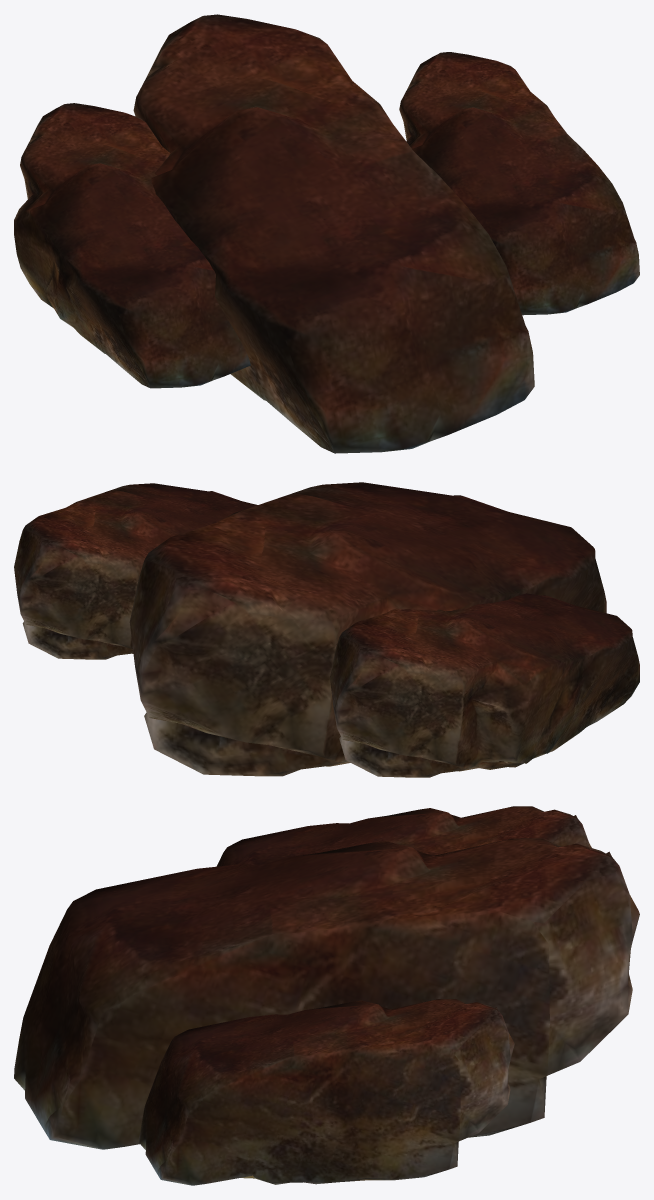
File: rock_cluster.glb
3 views of the same model, one above another, from view 1: azimuth 30°, elevation 25°; view 2: azimuth 150°, elevation 25°; view 3: azimuth 270°, elevation 25° (orthographic). The views are drawn at different scales.
Visible parts, largest first — view 1: rock_07, rock_cluster; view 2: rock_07, rock_cluster; view 3: rock_07, rock_cluster.
Part boxes in pixels (x1,y1,x2,y2): rock_07: (133,14,534,453); rock_cluster: (14,52,639,388); rock_07: (129,482,606,776); rock_cluster: (14,483,639,777); rock_07: (14,838,639,1149); rock_cluster: (139,806,591,1185).
Size of the model in its own units: 1.98 by 0.8604 by 1.92.
Materials: 1 (1 with a texture image).
